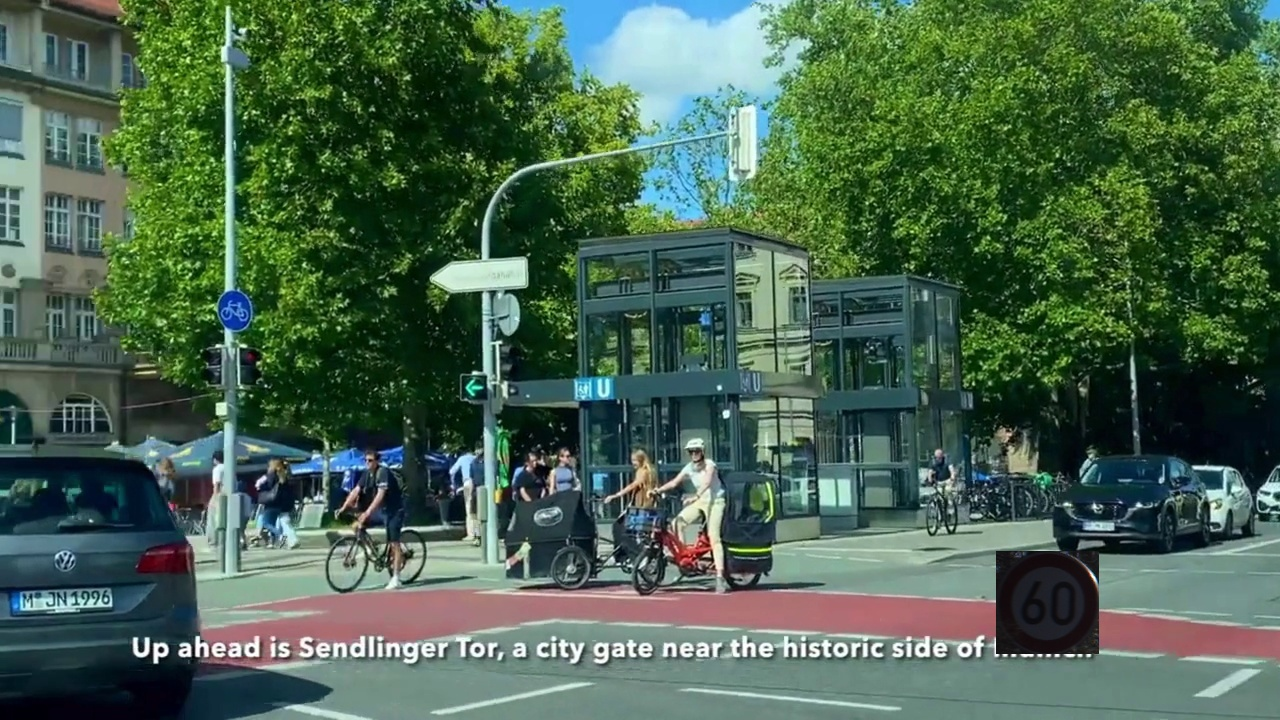Speed 60: (996, 551, 1099, 654)
